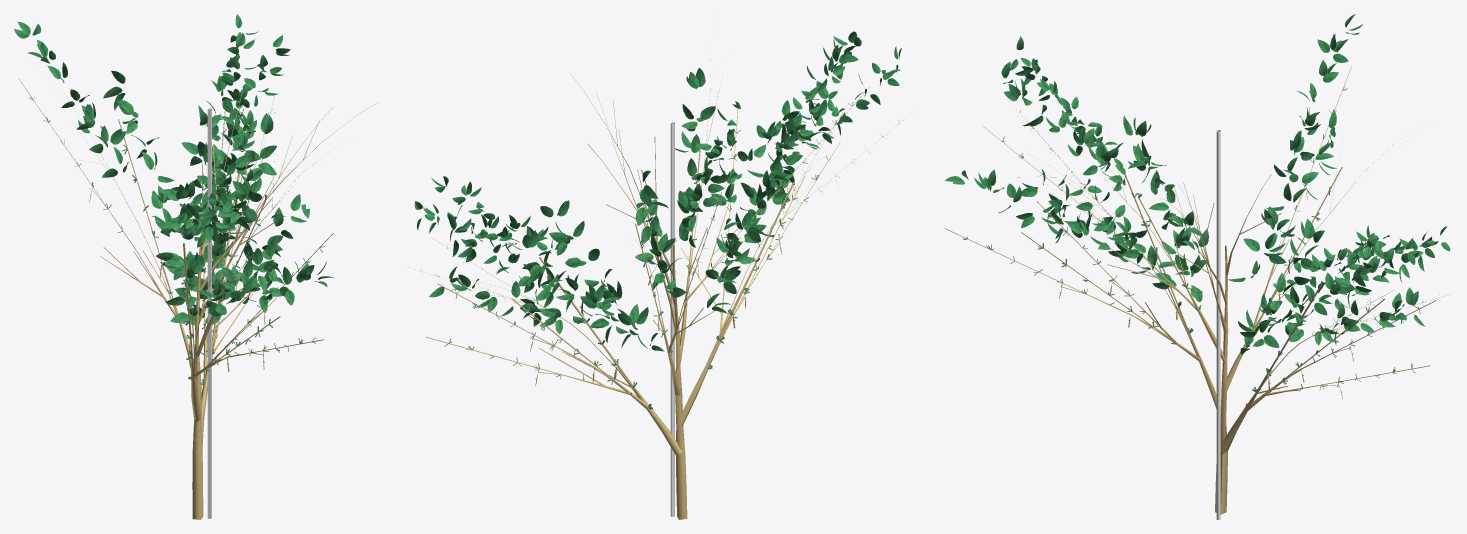
File: apple_tree_00_01_01___.fbx
The picture shows the model from 3 angles, left to right: view 1: azimuth 30°, elevation 25°; view 2: azimuth 150°, elevation 25°; view 3: azimuth 270°, elevation 25°; orthographic projection. The views are drawn at different scales.
Parts seen in each view (by area): view 1: Leaf_02, Tree_02, Poll_02; view 2: Leaf_02, Tree_02, Poll_02; view 3: Leaf_02, Tree_02, Poll_02.
Part boxes in pixels (x1,y1,x2,y2): Leaf_02: (14, 14, 334, 325); Tree_02: (18, 78, 378, 519); Poll_02: (207, 108, 211, 518); Leaf_02: (414, 31, 901, 351); Tree_02: (415, 19, 914, 519); Poll_02: (670, 122, 674, 516); Leaf_02: (945, 14, 1450, 354); Tree_02: (945, 66, 1444, 514); Poll_02: (1216, 130, 1220, 519).
Bounding box in the file's own units: 2.35 × 3.47 × 3.56.
